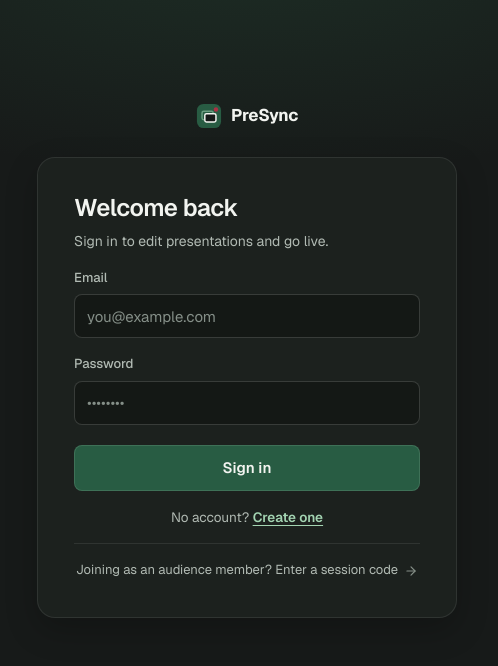
Test: LoginPage › requires an email and password
Click the button "Sign in" at (247, 468), box 74,444 -> 420,490
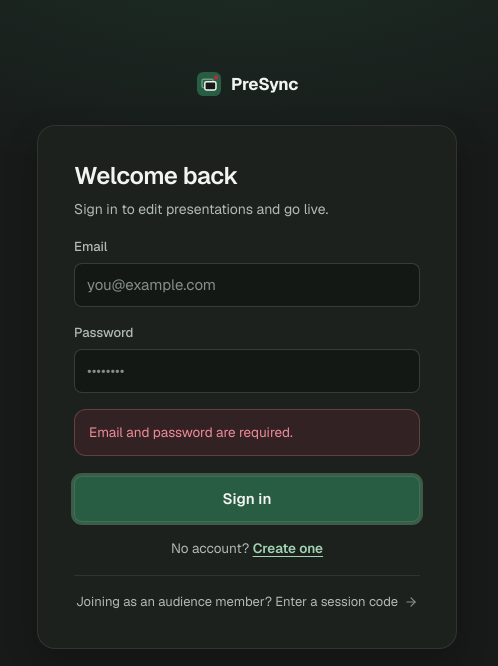
expect the text "Email and password are required." is shown: met, box 74,409 -> 420,456
